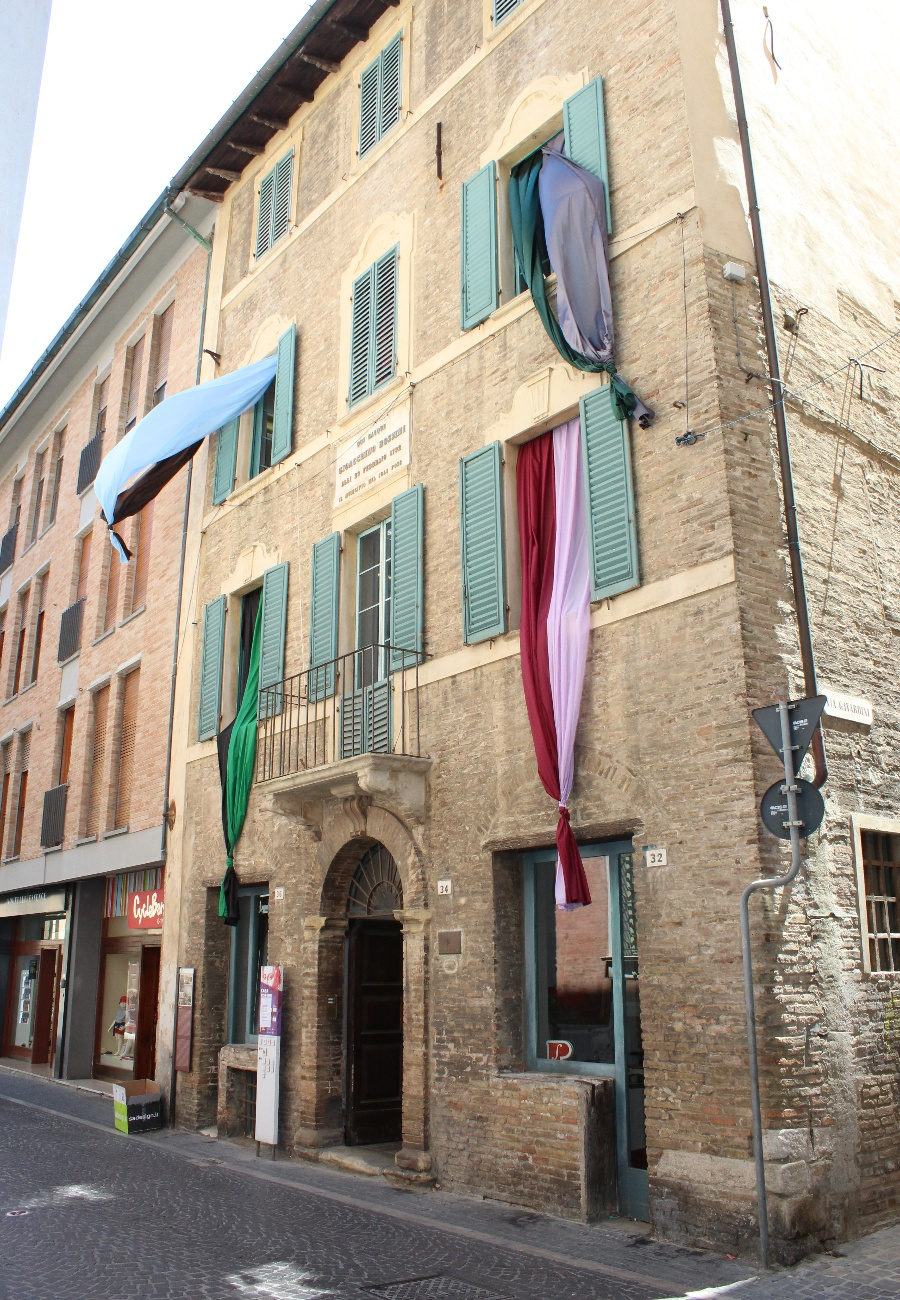Casa Rossini: (195, 1, 756, 1254)
